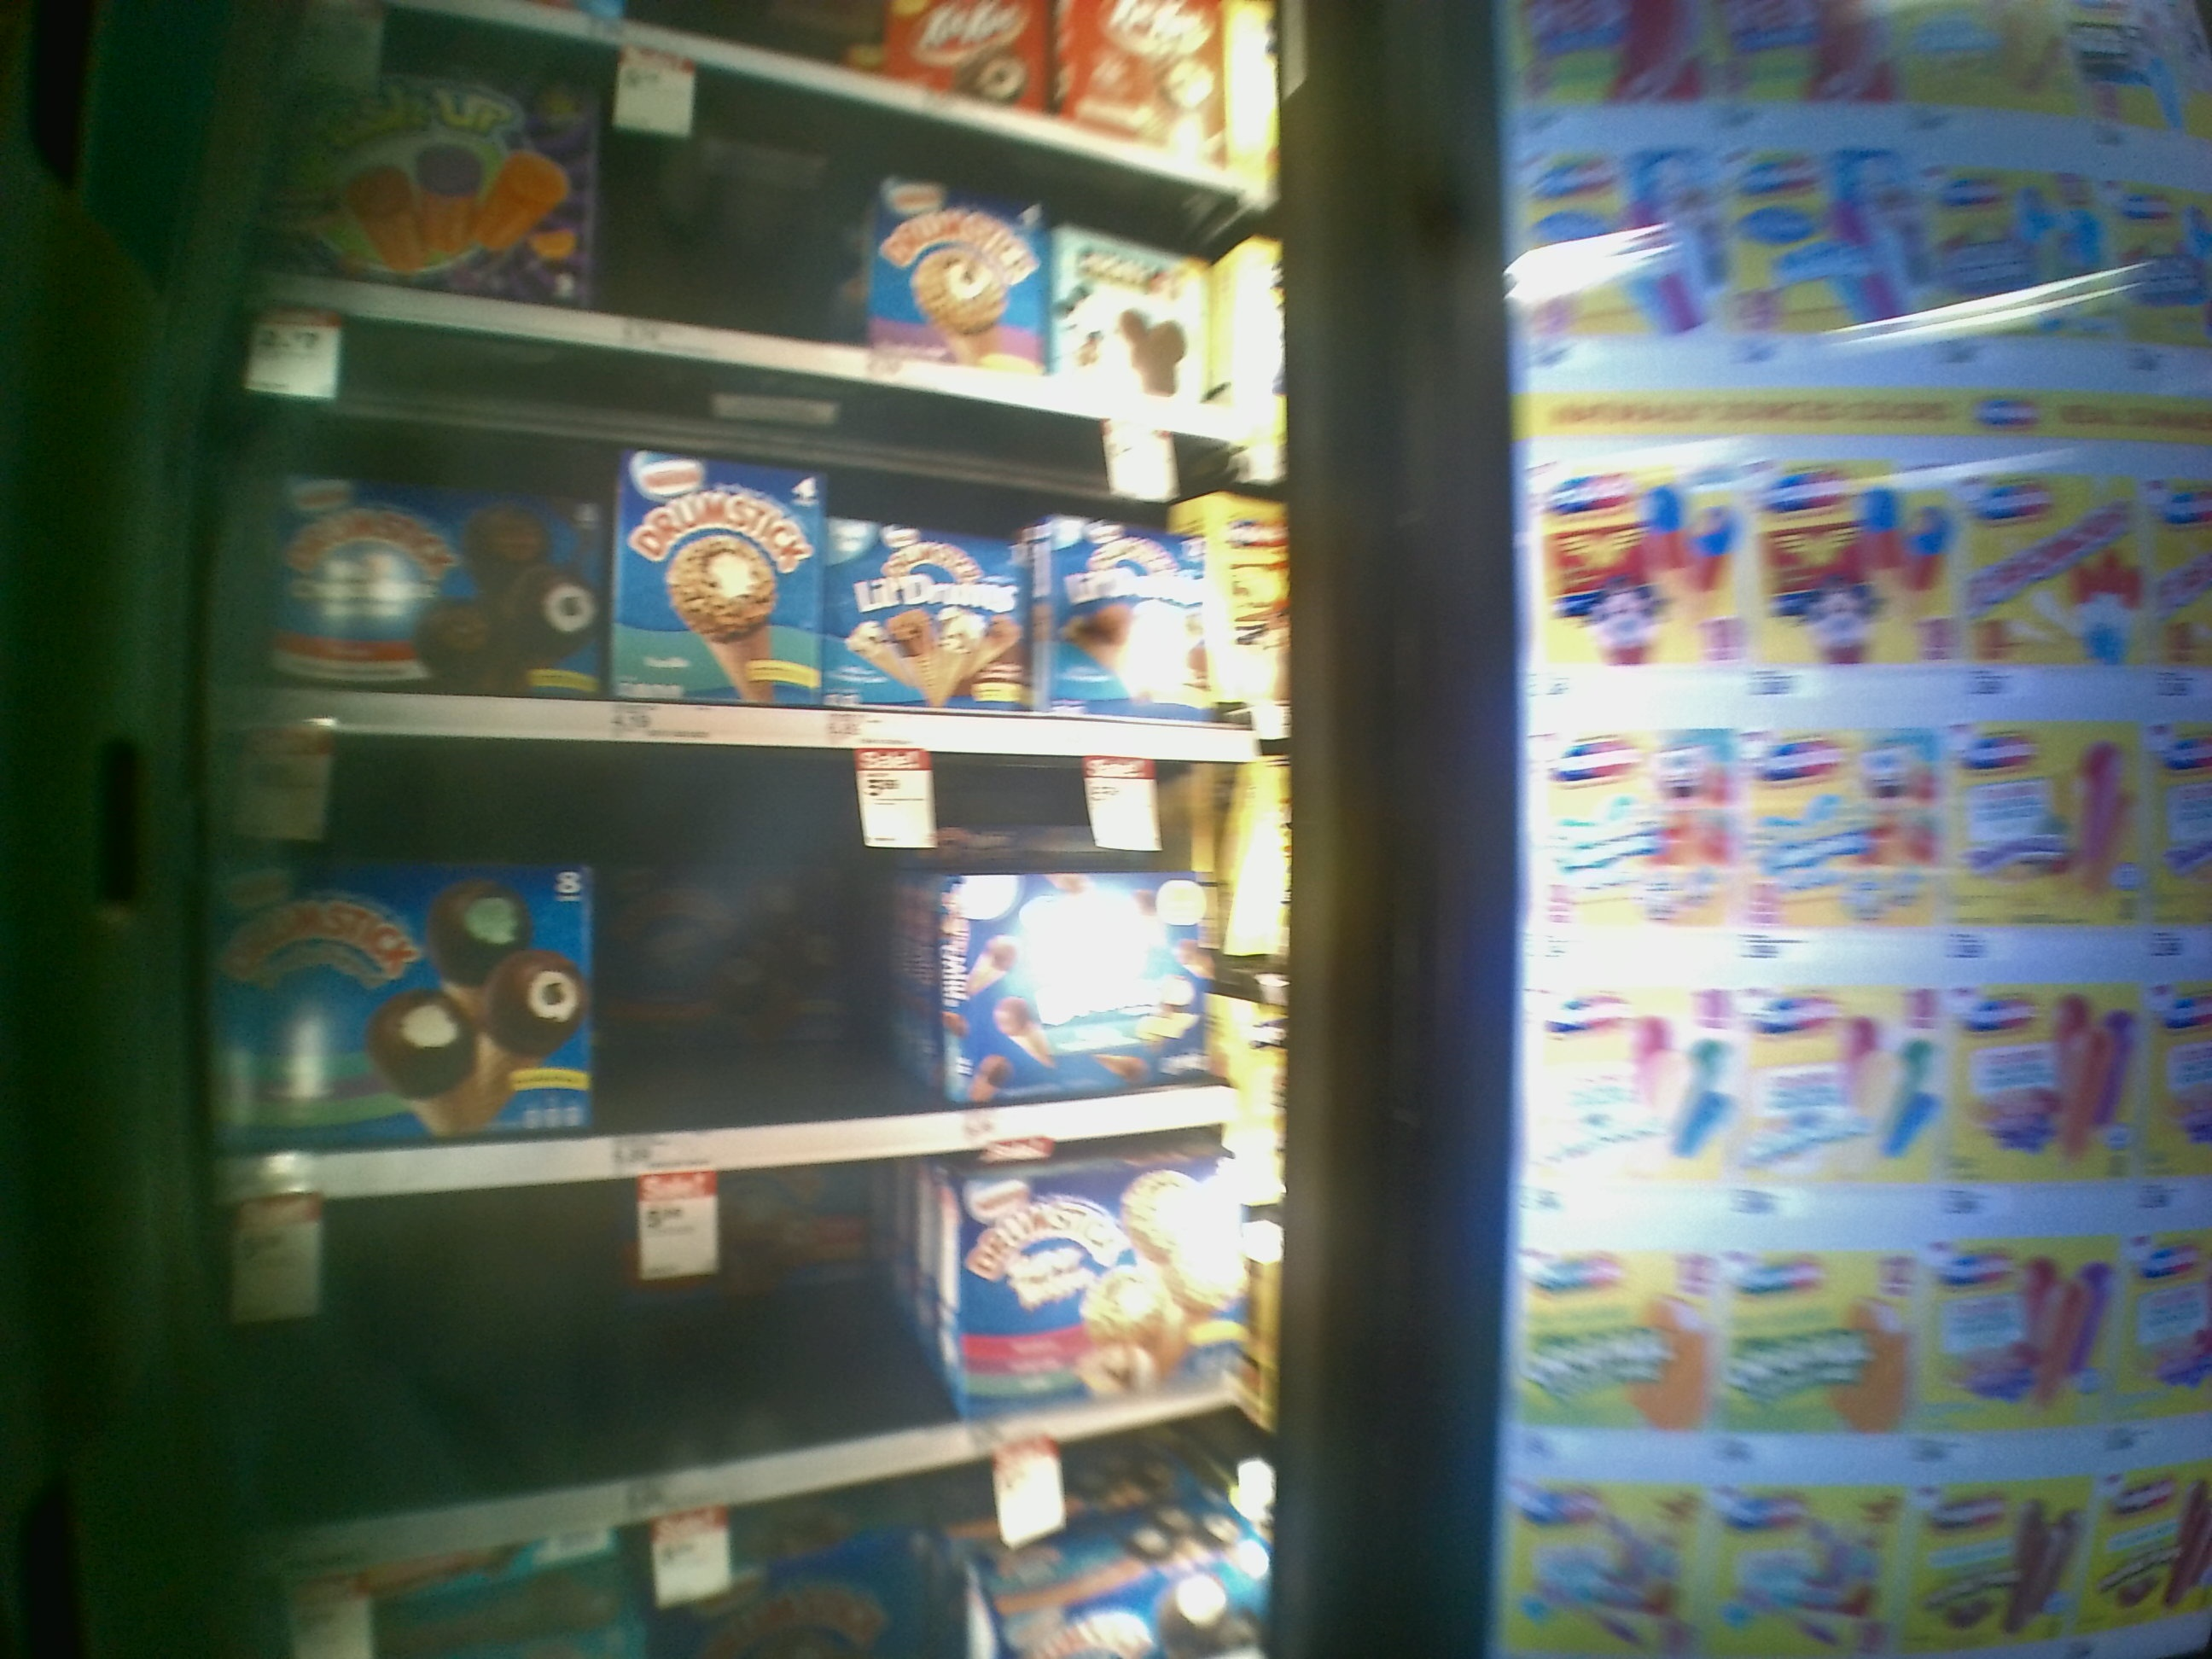shelf: (225, 732, 1298, 1195), (233, 312, 1298, 751)
